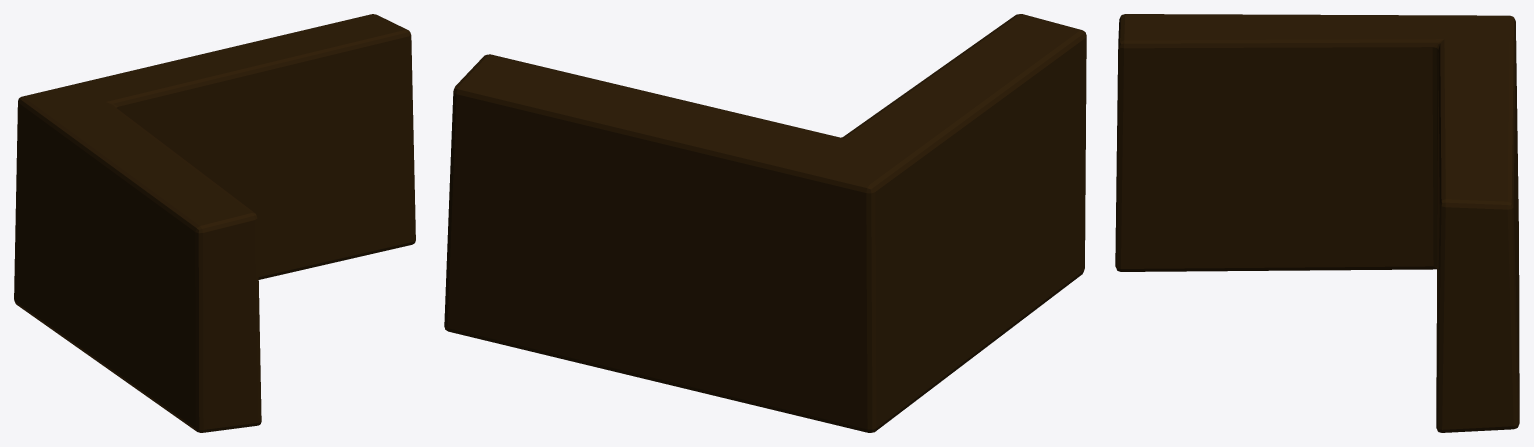
File: Wall piece 15 collider.fbx
The picture shows the model from 3 angles, left to right: view 1: azimuth 30°, elevation 25°; view 2: azimuth 150°, elevation 25°; view 3: azimuth 270°, elevation 25°; orthographic projection. The views are drawn at different scales.
Parts seen in each view (by area): view 1: wall piece 15 collider; view 2: wall piece 15 collider; view 3: wall piece 15 collider.
Part boxes in pixels (box(x1,y1,x2,y2)): wall piece 15 collider: box(14, 14, 415, 432); wall piece 15 collider: box(444, 14, 1086, 432); wall piece 15 collider: box(1115, 14, 1519, 432).
Size of the model in its own units: 769 by 677 by 431.
